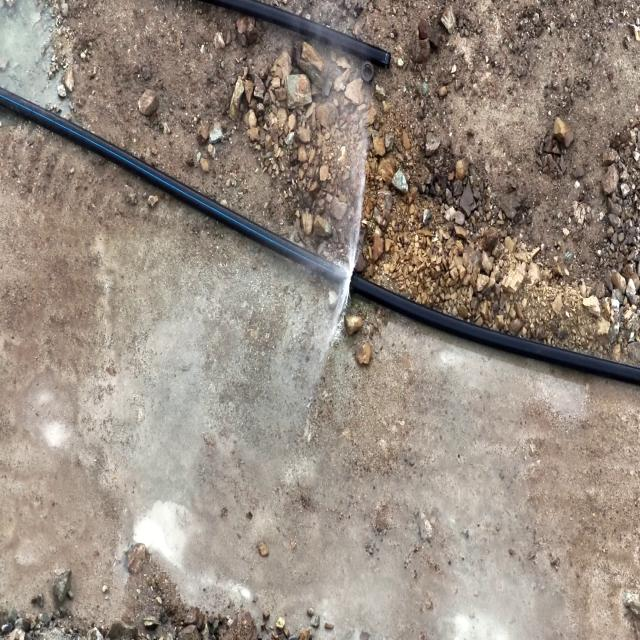leak: (313, 109, 375, 368)
